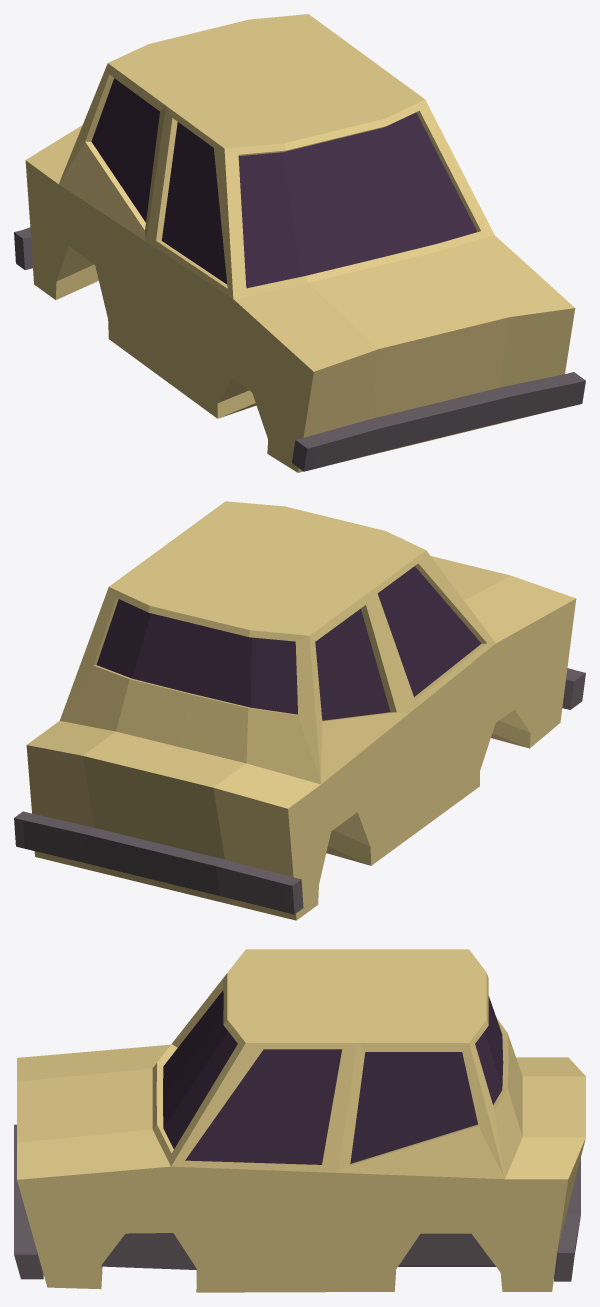
The model's file is CarPlayerExterior.fbx.
3 renders of one model, top to bottom at view 1: azimuth 30°, elevation 25°; view 2: azimuth 150°, elevation 25°; view 3: azimuth 270°, elevation 25°, orthographic. The views are drawn at different scales.
Visible parts, largest first — view 1: Cube; view 2: Cube; view 3: Cube.
Boxes of the visible parts, box(x1,y1,x2,y2) form: Cube: box(14, 14, 585, 472); Cube: box(14, 501, 585, 920); Cube: box(14, 949, 585, 1292).
Size of the model in its own units: 342 by 289 by 636.
